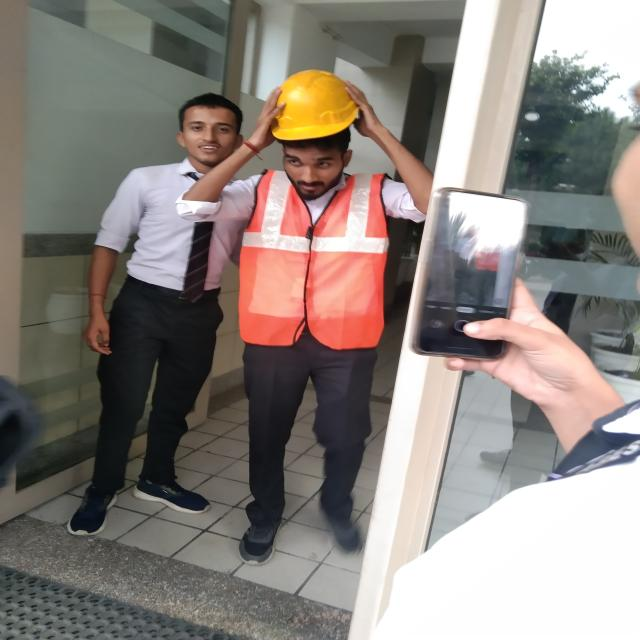safe: (235, 64, 405, 564)
unsafe: (83, 74, 241, 529)
